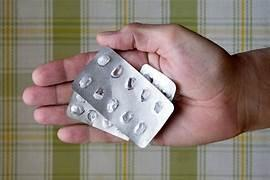pill_Strip: (73, 48, 173, 146), (67, 92, 128, 140), (140, 64, 175, 100), (133, 122, 147, 136), (69, 104, 84, 115), (107, 98, 118, 112), (120, 111, 133, 122), (97, 55, 110, 66), (111, 65, 122, 77), (79, 76, 91, 87), (87, 110, 98, 122), (140, 88, 150, 101), (93, 87, 103, 99), (125, 77, 135, 89), (154, 101, 163, 114), (148, 125, 153, 132)
